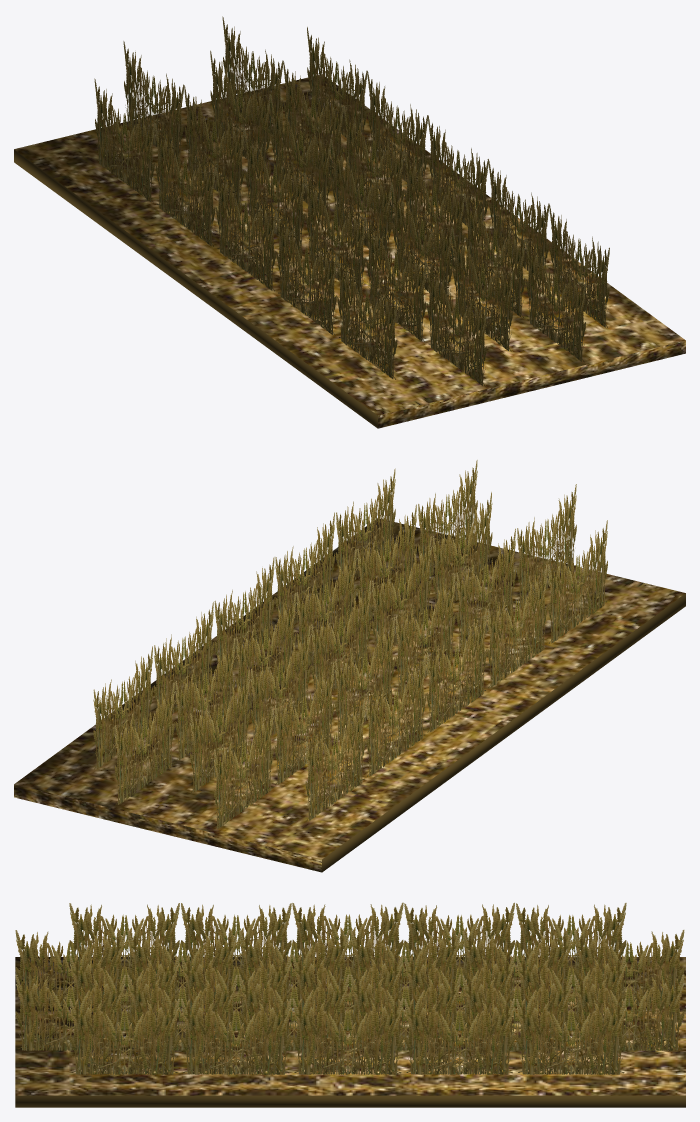
File: cf_ta_hill.obj
3 renders of one model, top to bottom at view 1: azimuth 30°, elevation 25°; view 2: azimuth 150°, elevation 25°; view 3: azimuth 270°, elevation 25°, orthographic. The views are drawn at different scales.
Visible parts, largest first — view 1: field_Cube.000; view 2: field_Cube.000; view 3: field_Cube.000.
Part boxes in pixels (x1,y1,x2,y2): field_Cube.000: [14, 16, 685, 428]; field_Cube.000: [14, 460, 685, 872]; field_Cube.000: [15, 902, 685, 1107].
Size of the model in its own units: 9.85 by 2.97 by 20.19.
